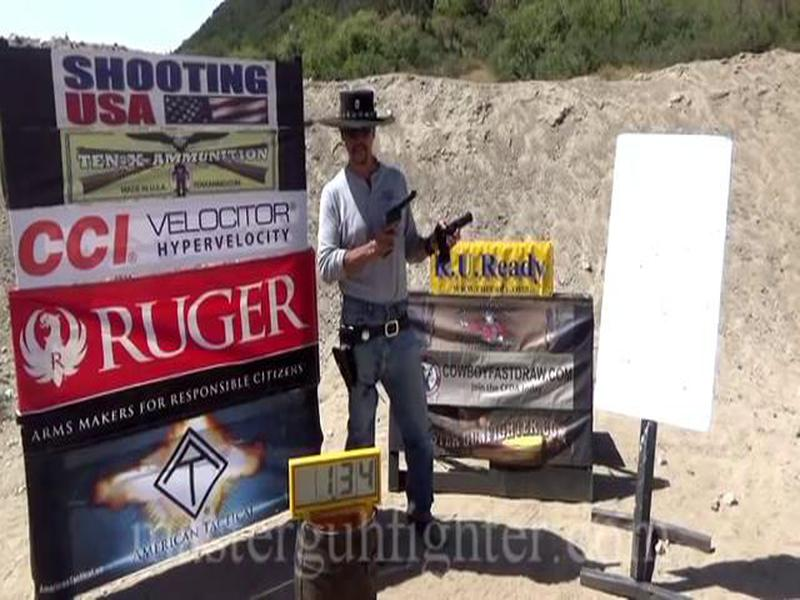Pistola: (432, 205, 488, 282)
Revolver: (374, 181, 419, 265)
